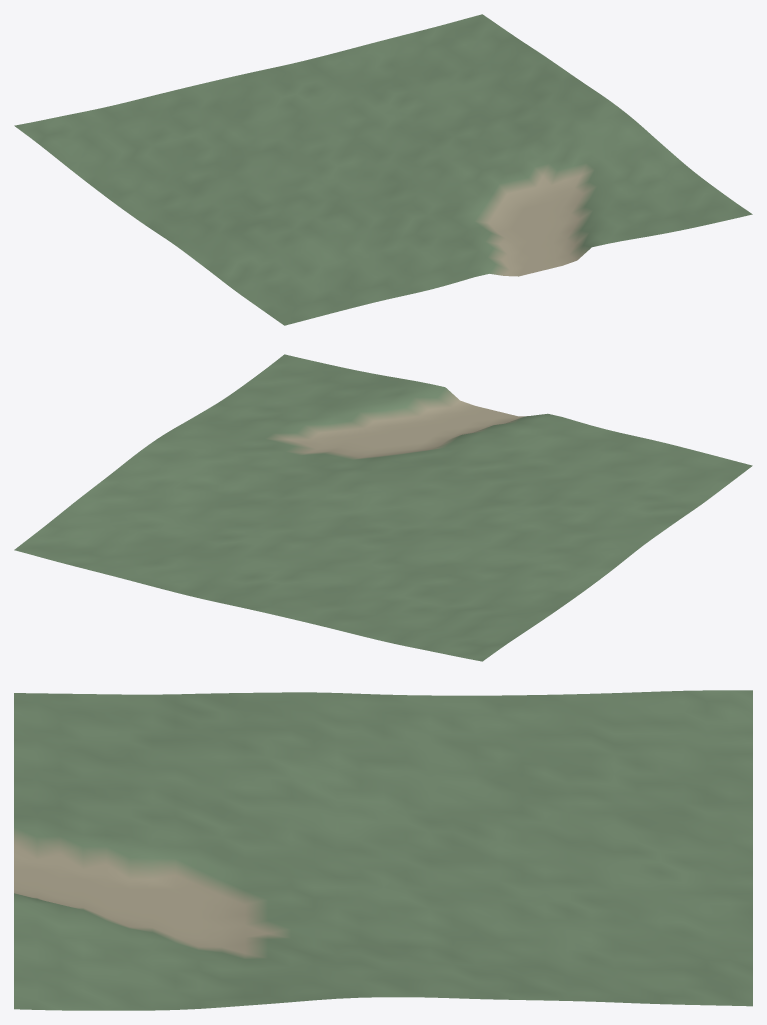
3 views of the same model, one above another, from view 1: azimuth 30°, elevation 25°; view 2: azimuth 150°, elevation 25°; view 3: azimuth 270°, elevation 25° (orthographic). The views are drawn at different scales.
Visible parts, largest first — view 1: Terrain-col; view 2: Terrain-col; view 3: Terrain-col.
Boxes of the visible parts, bbox=[...] form: Terrain-col: bbox=[14, 14, 752, 325]; Terrain-col: bbox=[14, 354, 752, 661]; Terrain-col: bbox=[14, 690, 752, 1010].
Size of the model in its own units: 256 by 7.21 by 256.
